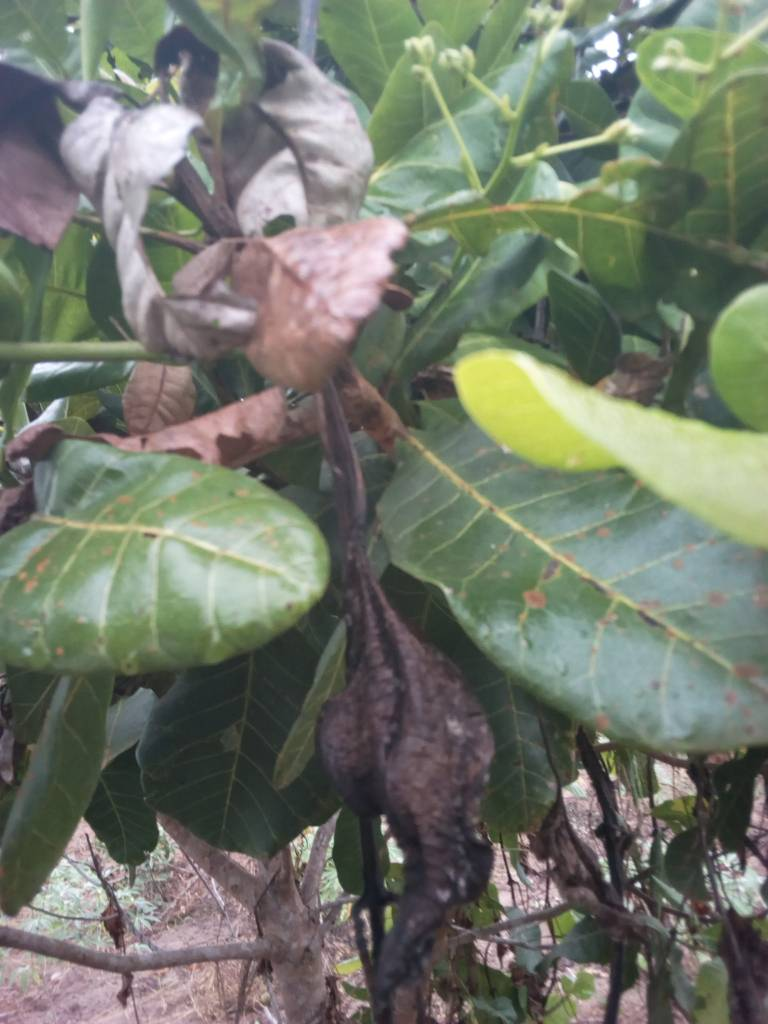Dessèchement des bourgeons: (325, 460, 497, 1010)
